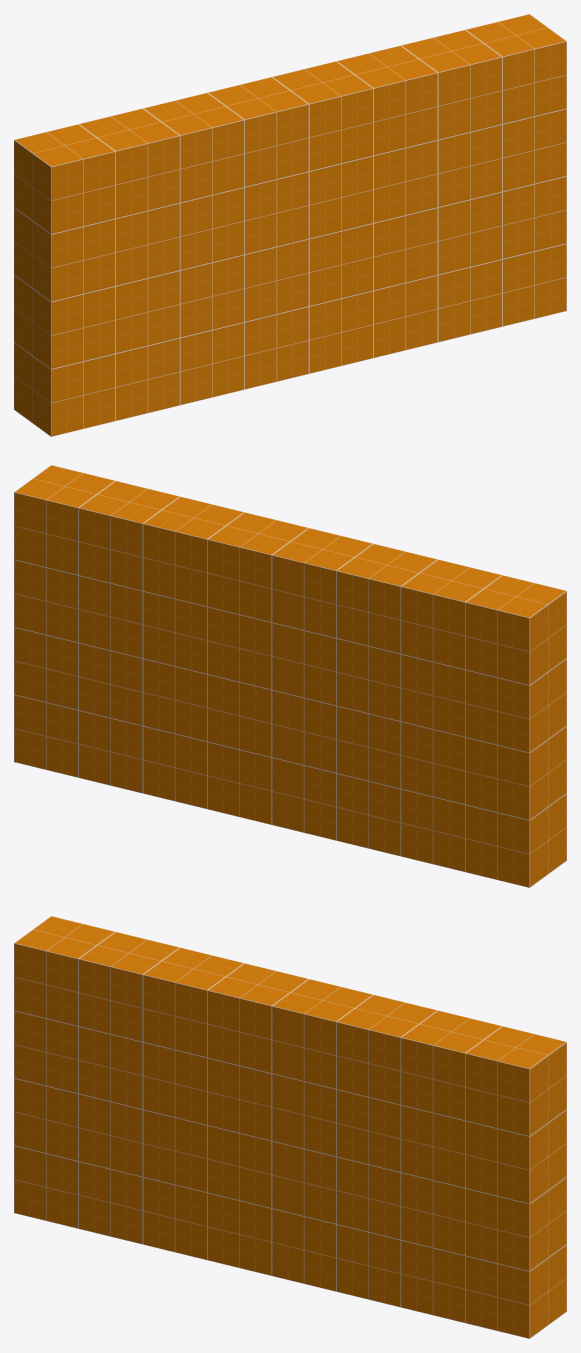
File: Block_8x1x4.obj
The picture shows the model from 3 angles, top to bottom: view 1: azimuth 30°, elevation 25°; view 2: azimuth 150°, elevation 25°; view 3: azimuth 330°, elevation 25°; orthographic projection.
Parts seen in each view (by area): view 1: Block_8x1x4_Cube.222; view 2: Block_8x1x4_Cube.222; view 3: Block_8x1x4_Cube.222.
Part boxes in pixels (bbox=[...]): Block_8x1x4_Cube.222: bbox=[14, 14, 566, 436]; Block_8x1x4_Cube.222: bbox=[14, 465, 566, 887]; Block_8x1x4_Cube.222: bbox=[14, 916, 566, 1338].
Bounding box in the file's own units: 8 × 4 × 1.
Materials: 1 (1 with a texture image).
